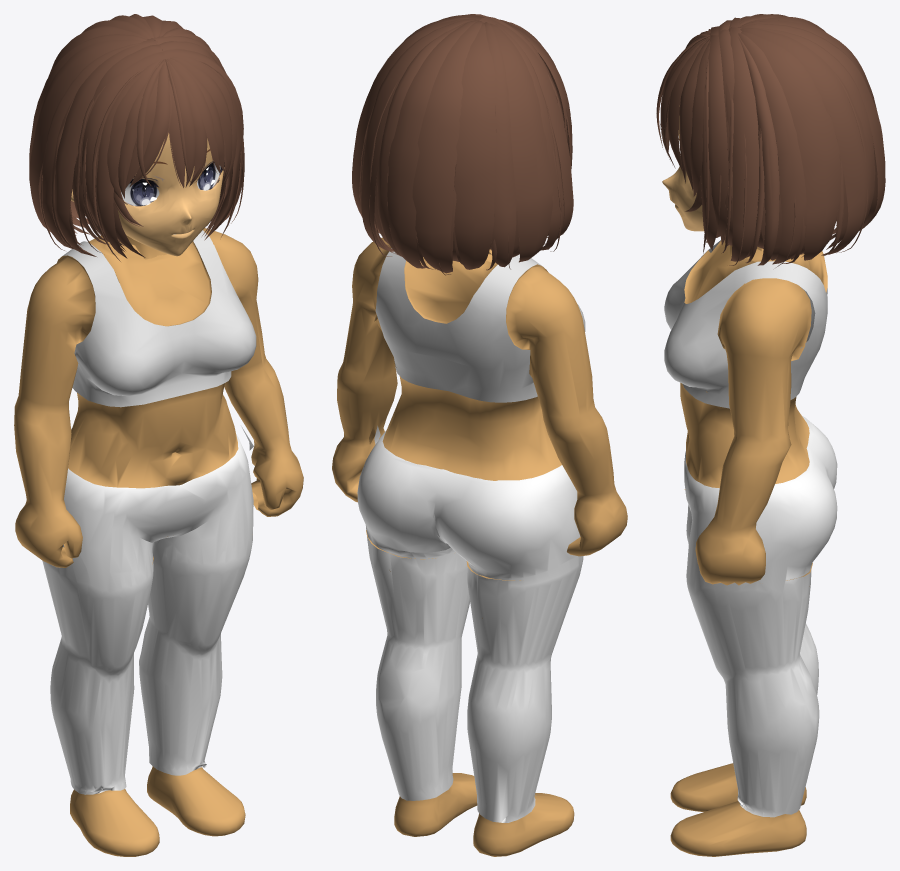
The model's file is Mii female Stage 4.glb.
The picture shows the model from 3 angles, left to right: view 1: azimuth 30°, elevation 25°; view 2: azimuth 150°, elevation 25°; view 3: azimuth 270°, elevation 25°; orthographic projection. The views are drawn at different scales.
Parts seen in each view (by area): view 1: Hair.001; view 2: Hair.001; view 3: Hair.001.
Boxes of the visible parts, bbox=[...] form: Hair.001: bbox=[14, 14, 303, 856]; Hair.001: bbox=[332, 14, 627, 856]; Hair.001: bbox=[656, 14, 885, 856].
Size of the model in its own units: 0.6883 by 1.91 by 0.4931.
Materials: 14 (7 with a texture image).
